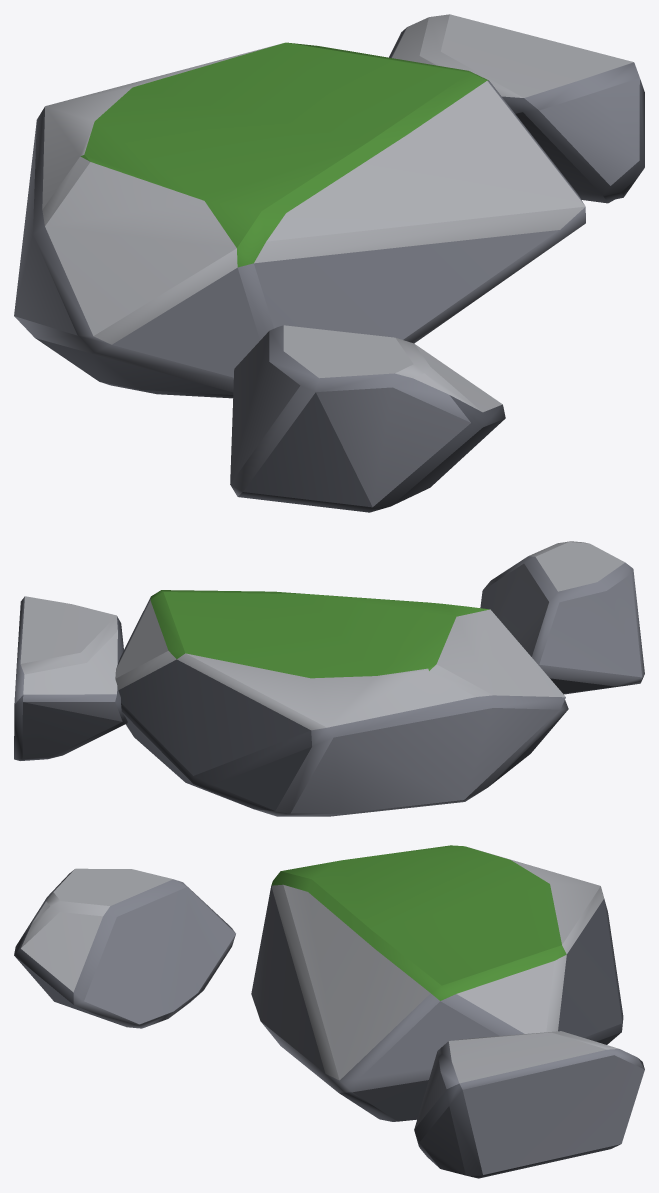
The model's file is Rock_13.glb.
3 views of the same model, one above another, from view 1: azimuth 30°, elevation 25°; view 2: azimuth 150°, elevation 25°; view 3: azimuth 270°, elevation 25° (orthographic). The views are drawn at different scales.
Parts seen in each view (by area): view 1: Rock_13; view 2: Rock_13; view 3: Rock_13.
Boxes of the visible parts, box(x1,y1,x2,y2) form: Rock_13: box(14, 14, 644, 512); Rock_13: box(14, 541, 644, 816); Rock_13: box(14, 845, 644, 1178).
Bounding box in the file's own units: 3.31 × 0.8322 × 3.62.
